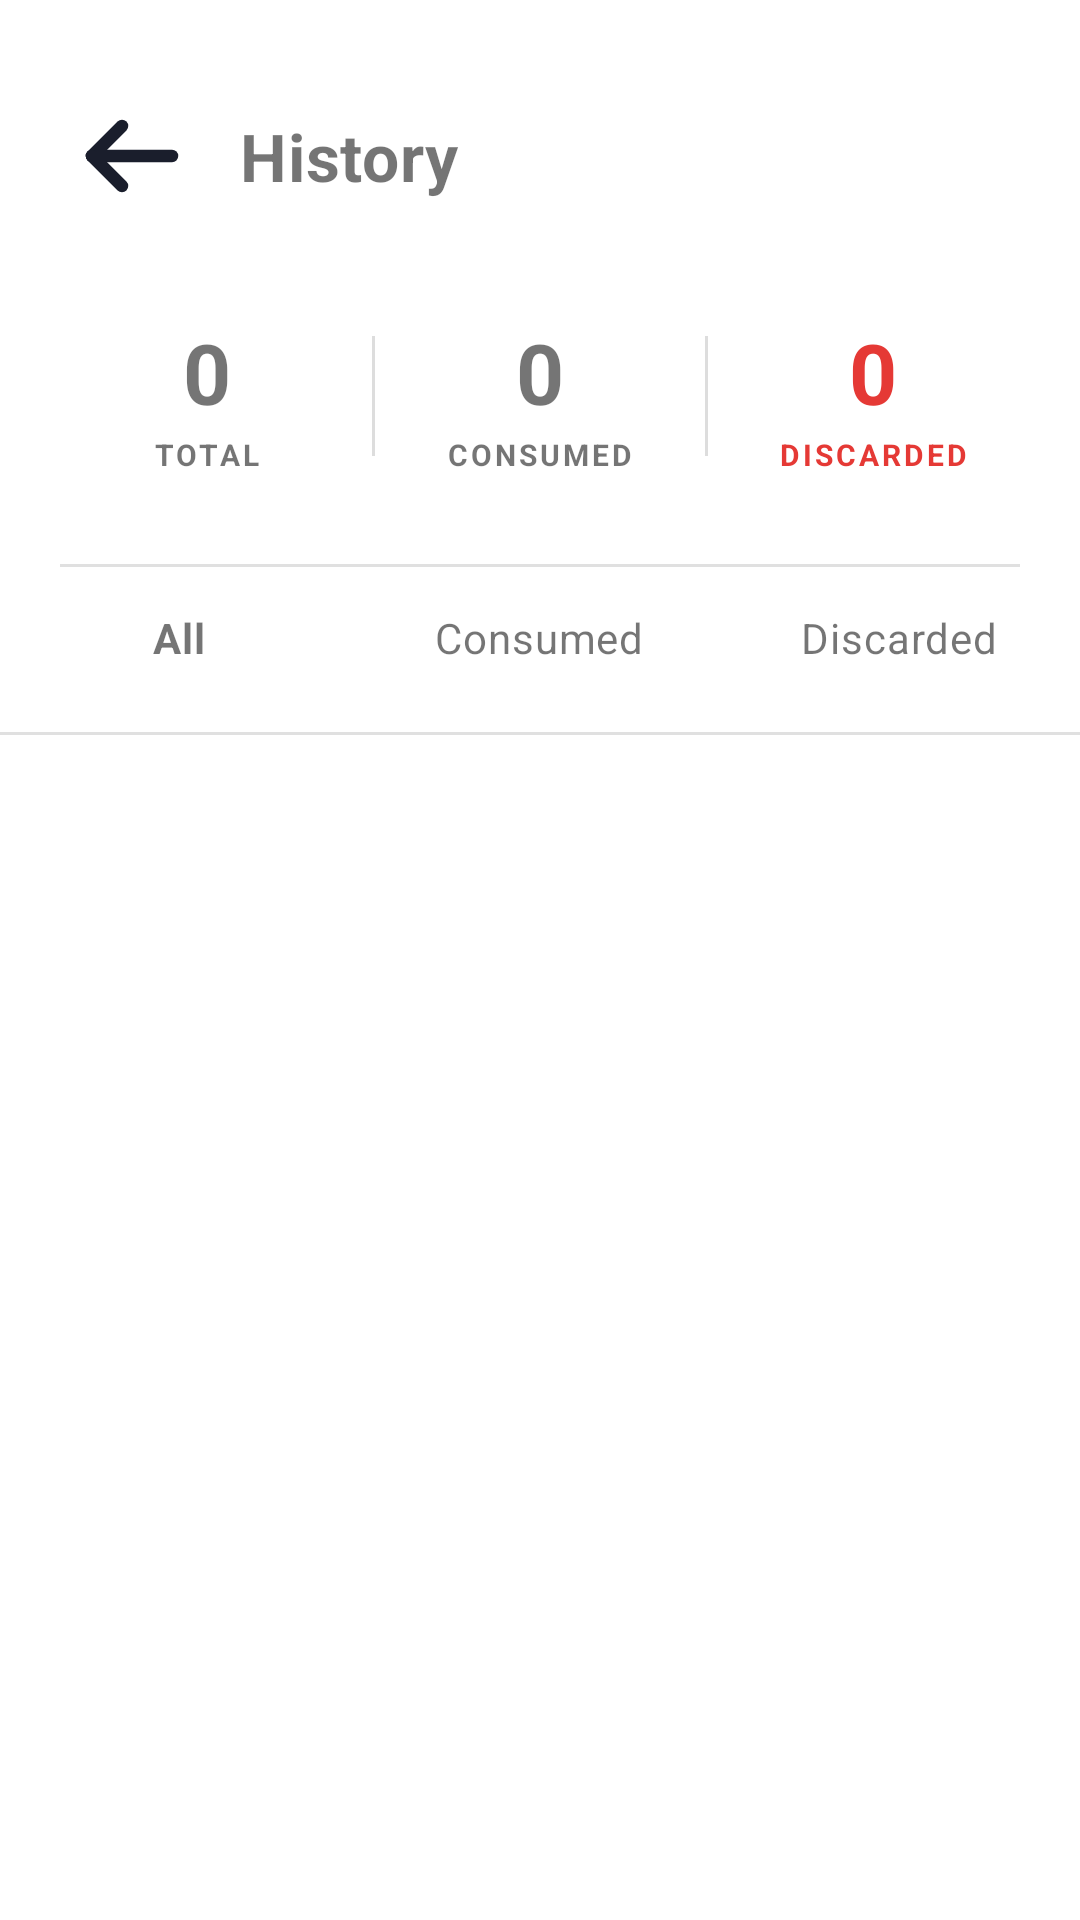

Named icons in this screenshot (1080w x 1920h) and their bounding boxes, (x1, y1, x2, y2):
Back: (85, 119, 179, 193)
